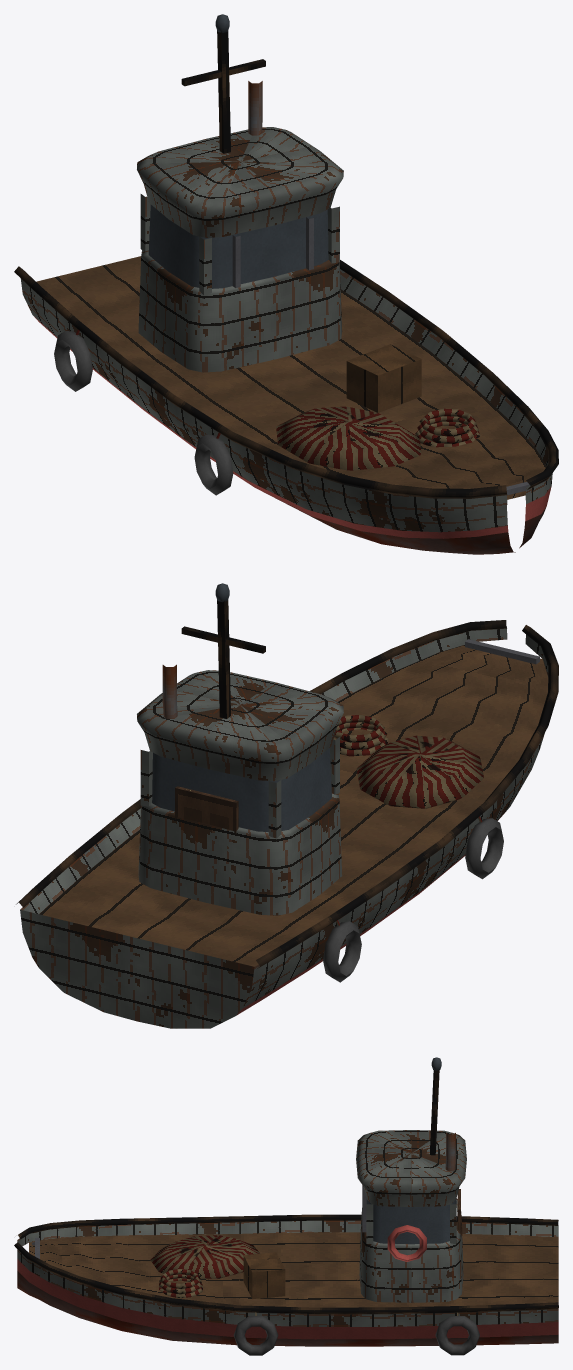
File: boat.glb
3 renders of one model, top to bottom at view 1: azimuth 30°, elevation 25°; view 2: azimuth 150°, elevation 25°; view 3: azimuth 270°, elevation 25°, orthographic. The views are drawn at different scales.
Parts seen in each view (by area): view 1: detail, hull-col; view 2: detail, hull-col; view 3: detail, hull-col.
Part boxes in pixels (x1,y1,x2,y2): detail: (14, 14, 558, 504); hull-col: (20, 256, 552, 554); detail: (16, 583, 558, 982); hull-col: (20, 645, 548, 1028); detail: (14, 1057, 558, 1355); hull-col: (17, 1232, 558, 1346).
Size of what is drawn, in the model's own units: 2.79 by 3.52 by 6.48.
Materials: 12 (12 with a texture image).
